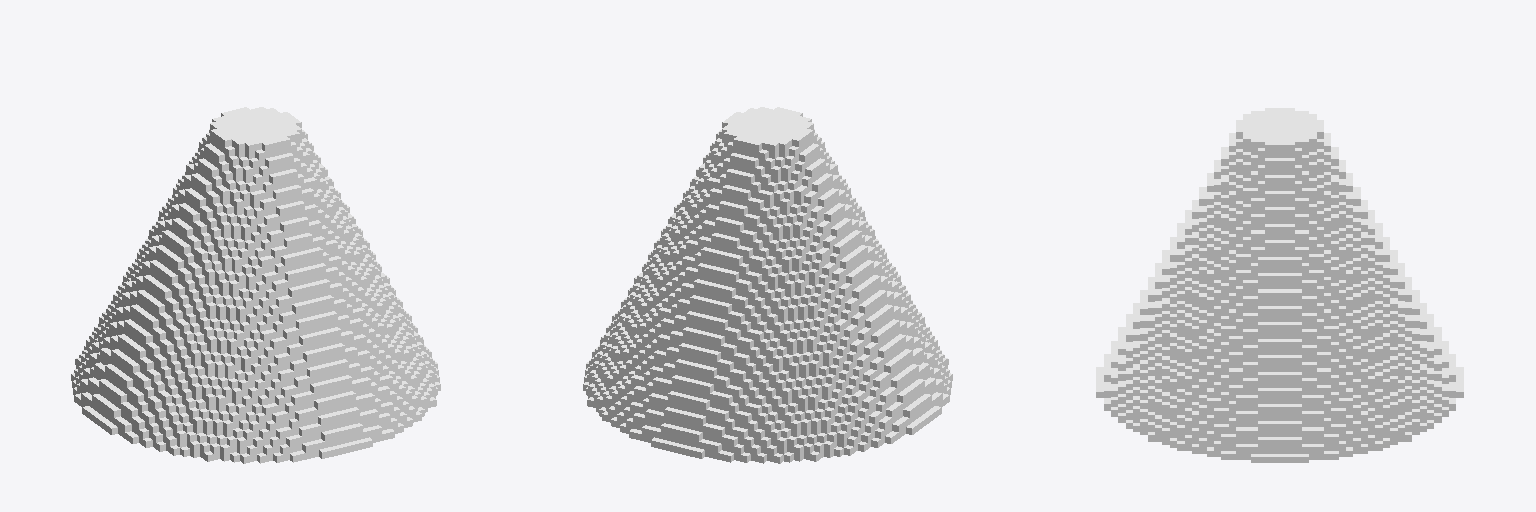
Rendered from fuji_hiroppe.vox.obj.
3 renders of one model, left to right at view 1: azimuth 30°, elevation 25°; view 2: azimuth 150°, elevation 25°; view 3: azimuth 270°, elevation 25°, orthographic.
Visible parts, largest first — view 1: object 1; view 2: object 1; view 3: object 1.
Part boxes in pixels (x1,y1,x2,y2): object 1: (71,107,440,463); object 1: (583,107,952,463); object 1: (1096,108,1463,462).
Size of the model in its own units: 5 by 3.9 by 5.